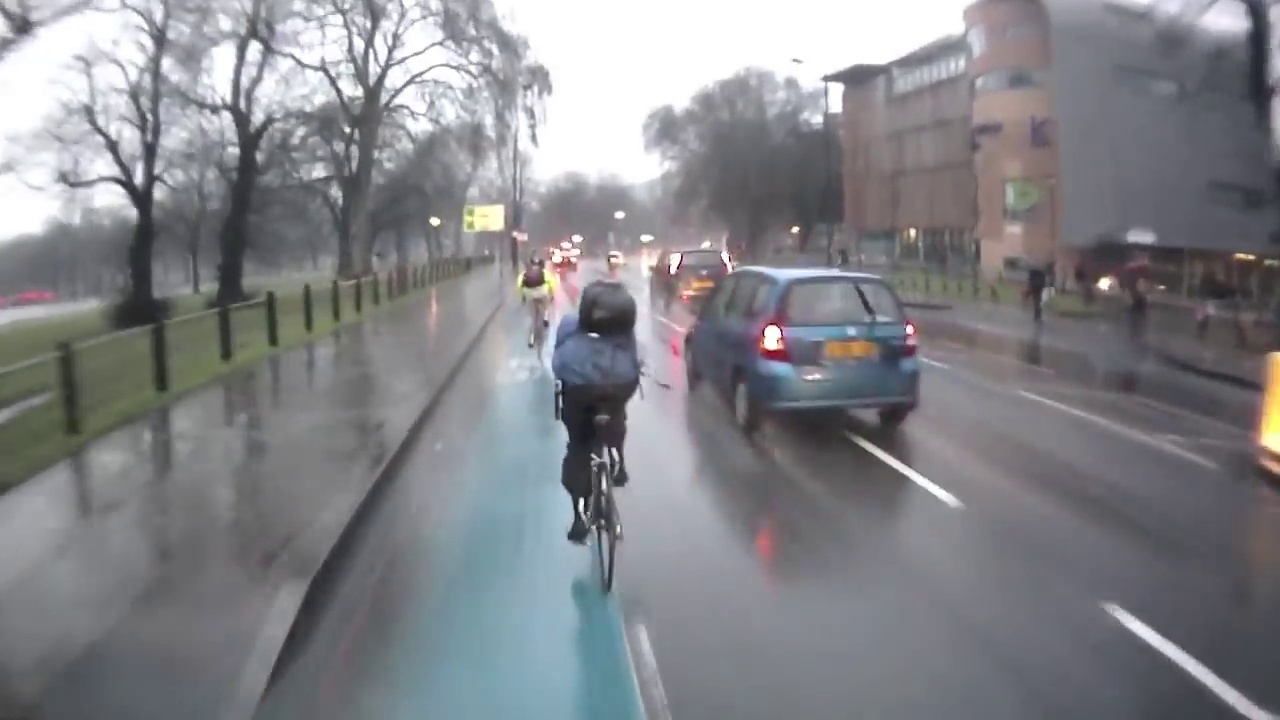cyclist_back: (541, 269, 649, 603), (518, 249, 559, 359)
